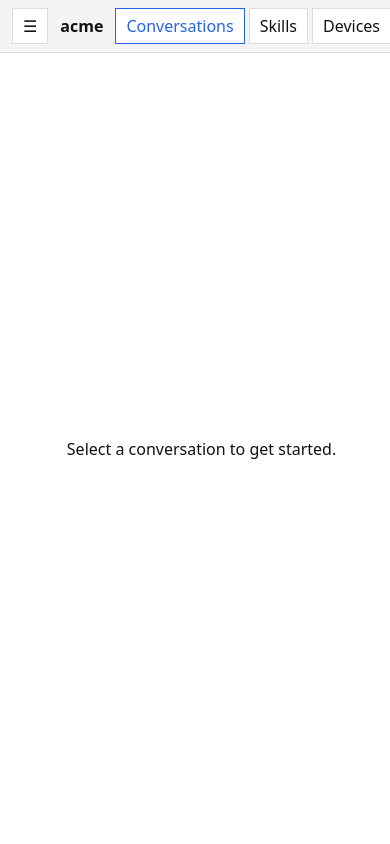
Test: Shell › toggles the mobile sidebar drawer via the hamburger (aria-expanded) and closes it on Escape
The image size is (390, 844).
Click the button named "Toggle conversations menu" at x=30, y=26, box [12,8,48,44]
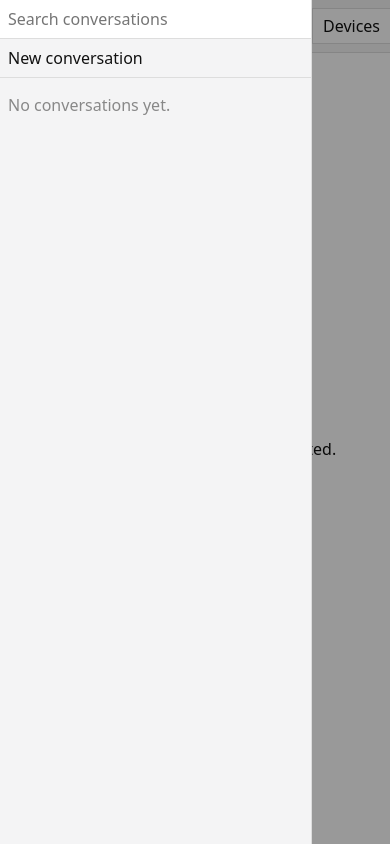
Expected: the button named "Toggle conversations menu" is expanded, [12,8,48,44]
Press Escape
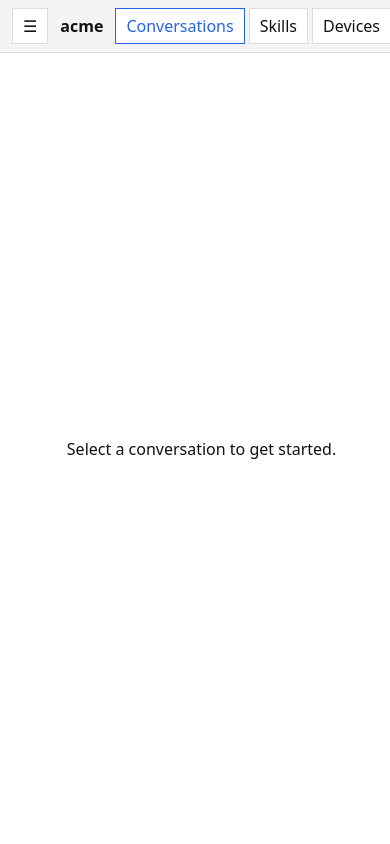
Expected: the button named "Toggle conversations menu" is collapsed, [12,8,48,44]
